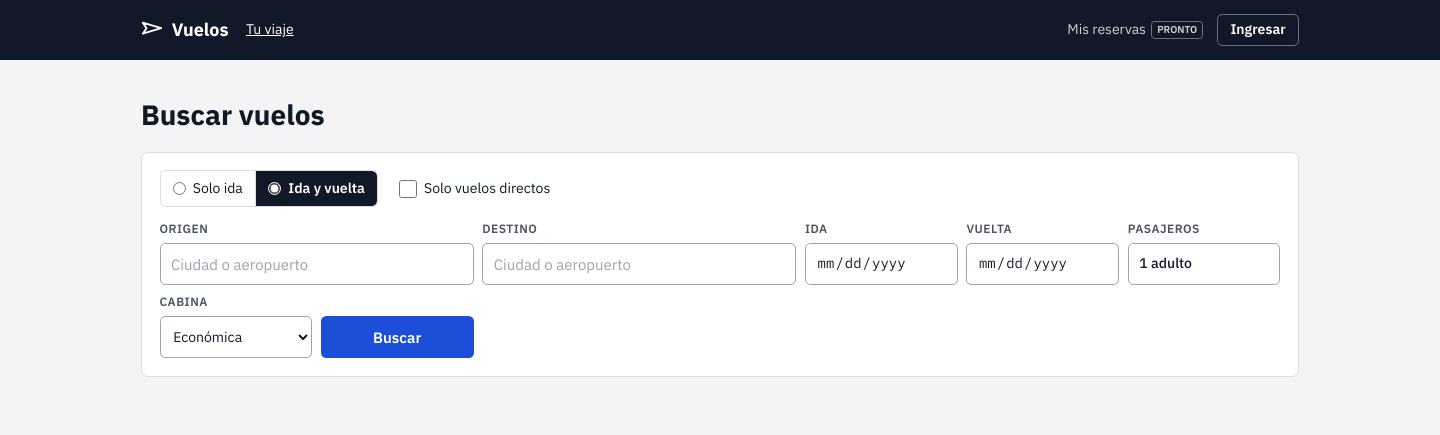
search form › validates before searching
Click the button "Buscar". click: point(397, 337)
box: [321,316,474,358]
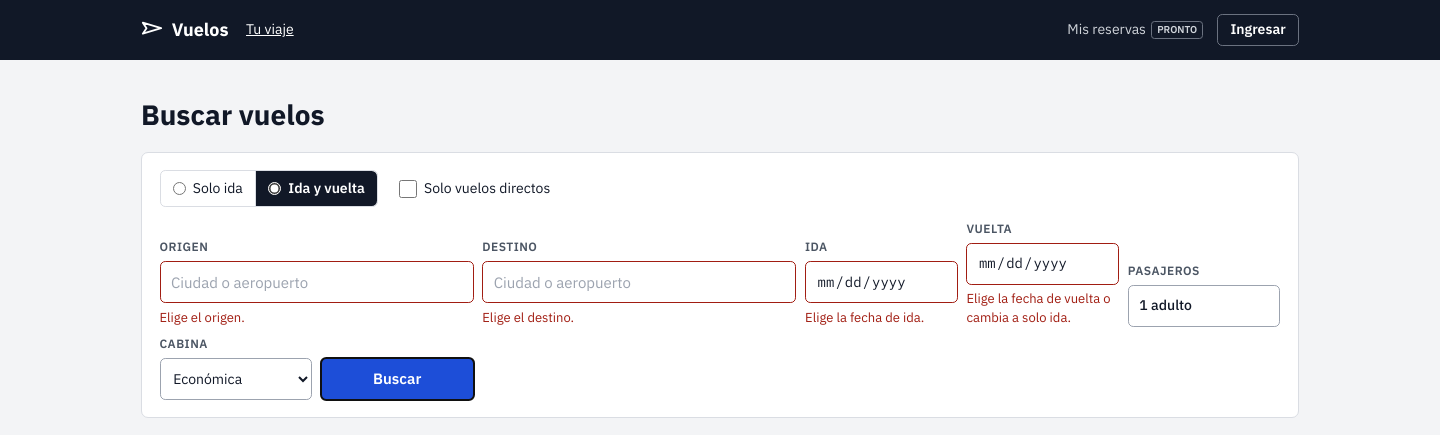
Expected: the text "Elige el origen." is shown, [160,309,245,326]
Expected: the text "Elige el destino." is shown, [482,309,574,326]
Expected: the text "Elige la fecha de ida." is shown, [805,309,924,326]
